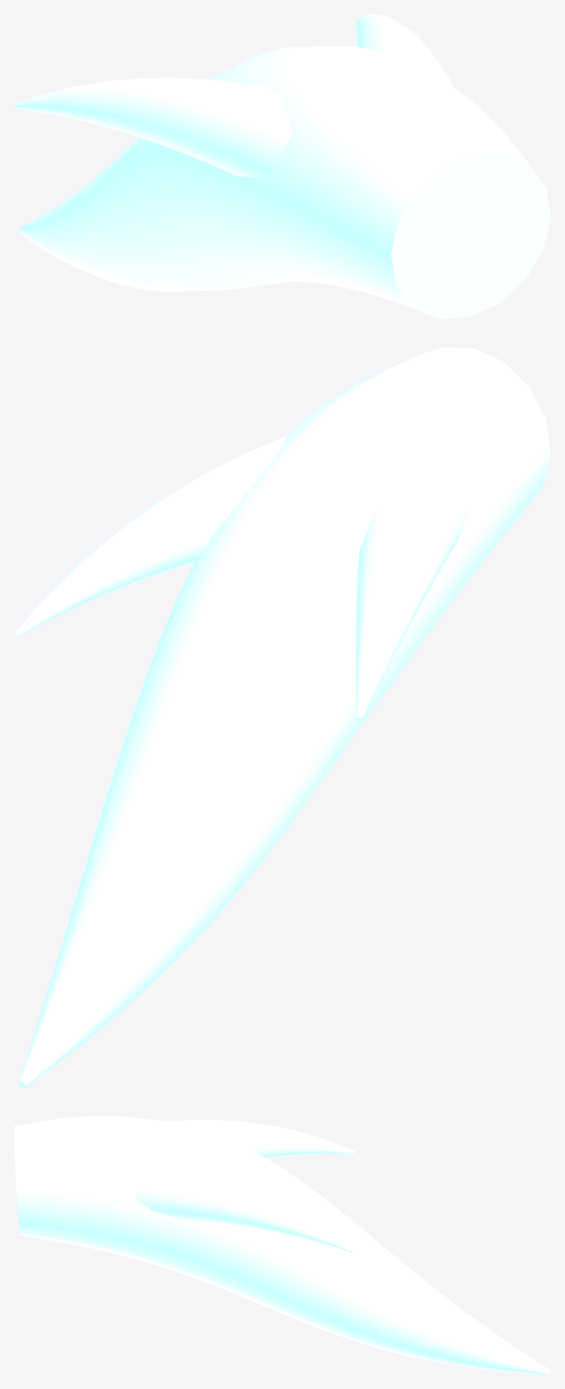
Rendered from hecarim_tail.glb.
3 renders of one model, top to bottom at view 1: azimuth 30°, elevation 25°; view 2: azimuth 150°, elevation 25°; view 3: azimuth 270°, elevation 25°, orthographic. The views are drawn at different scales.
Visible parts, largest first — view 1: hecarim_tail; view 2: hecarim_tail; view 3: hecarim_tail.
Boxes of the visible parts, x1,y1,x2,y2 form: hecarim_tail: (14, 14, 550, 318); hecarim_tail: (14, 347, 550, 1087); hecarim_tail: (14, 1116, 550, 1374).
Bounding box in the file's own units: 0.3038 × 0.3556 × 0.6851.
